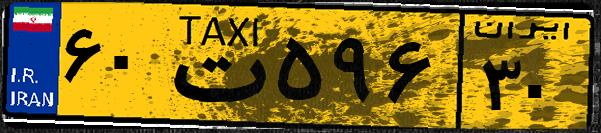0: (525, 38, 570, 115), (110, 28, 158, 98)
3: (475, 38, 525, 113)
5: (270, 28, 330, 110)
6: (385, 28, 445, 110), (57, 26, 110, 100)
9: (330, 28, 385, 110)
ت: (158, 12, 270, 120)
